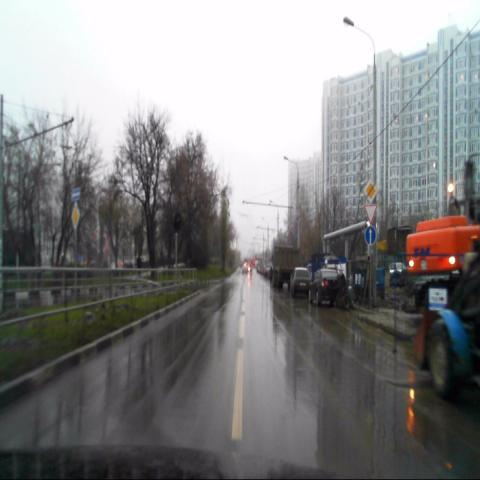4_1_1: (364, 226, 376, 246)
